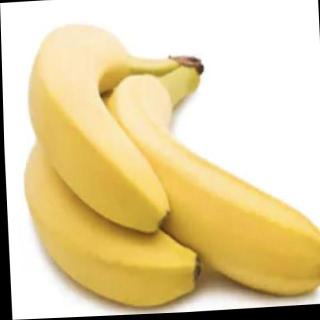banana: (98, 57, 320, 311), (17, 74, 202, 316), (22, 17, 189, 245)
